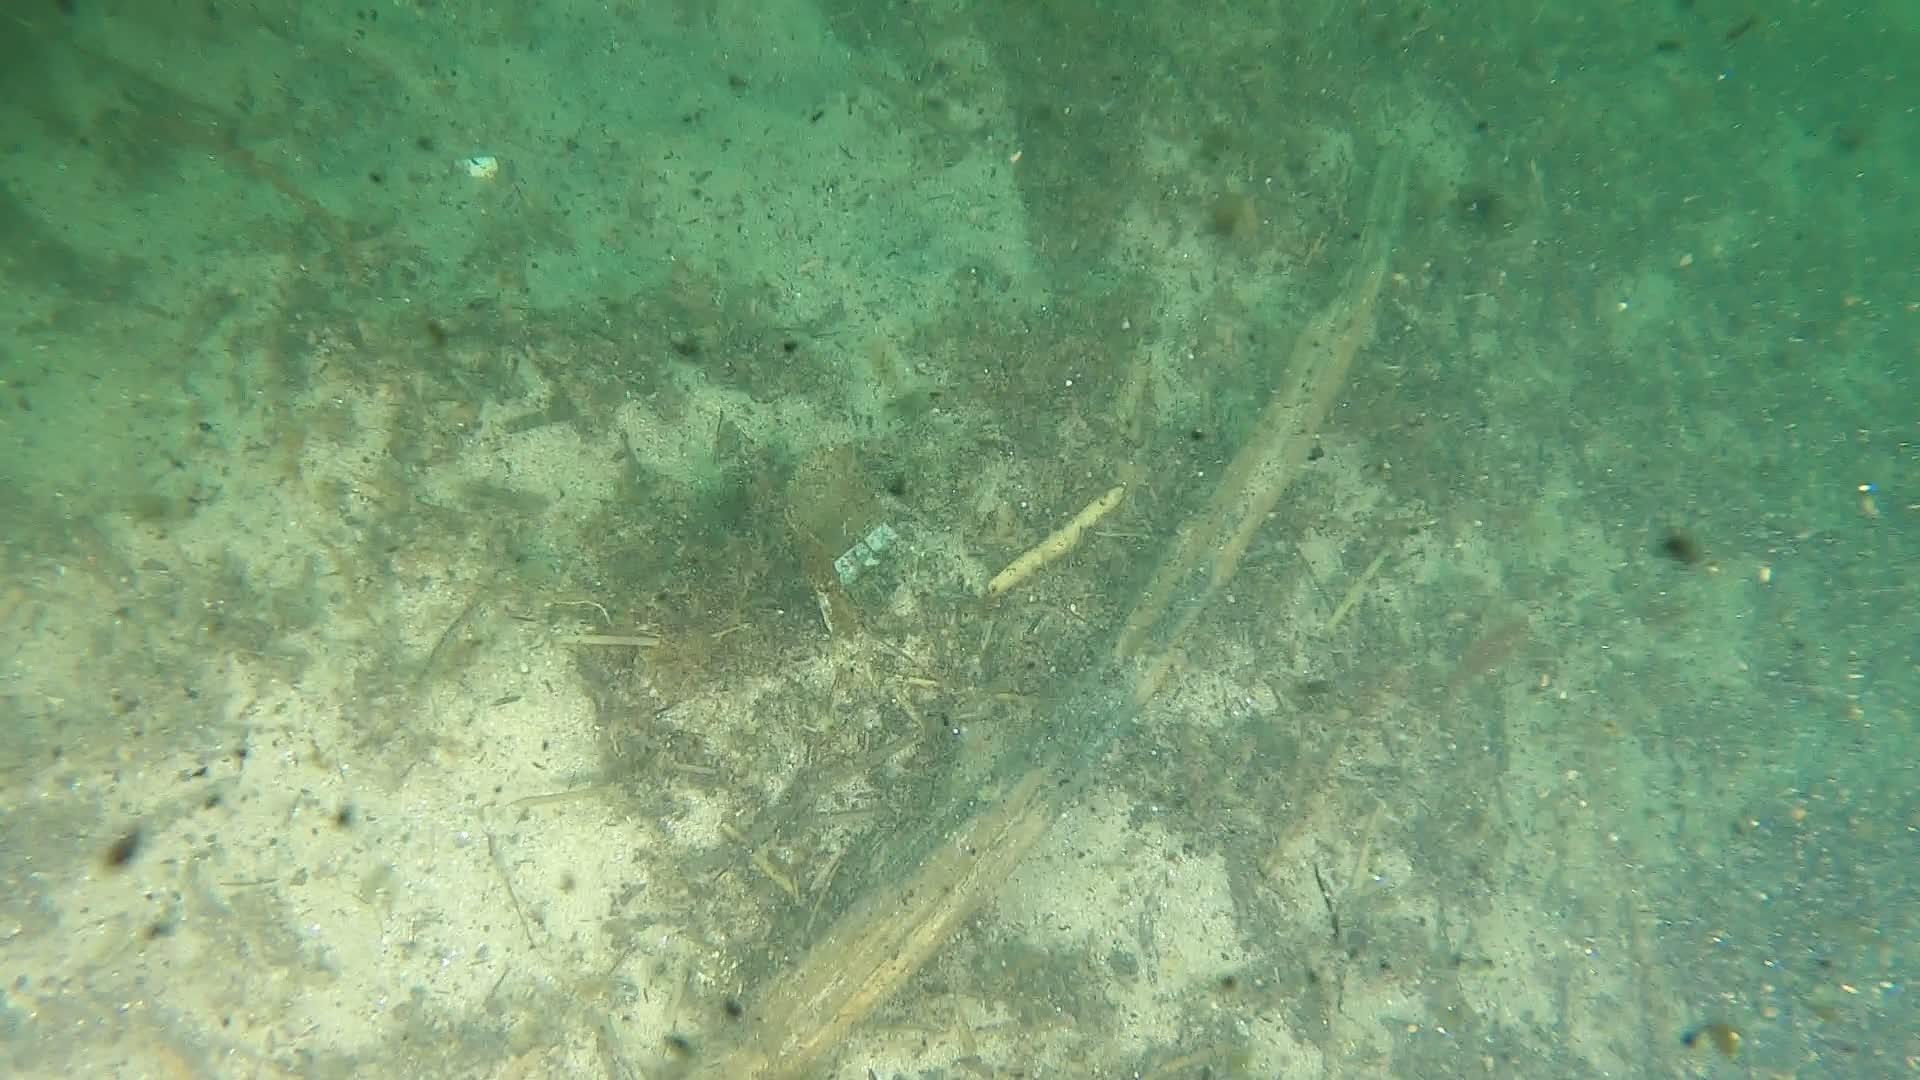wood: (658, 135, 1408, 1080)
